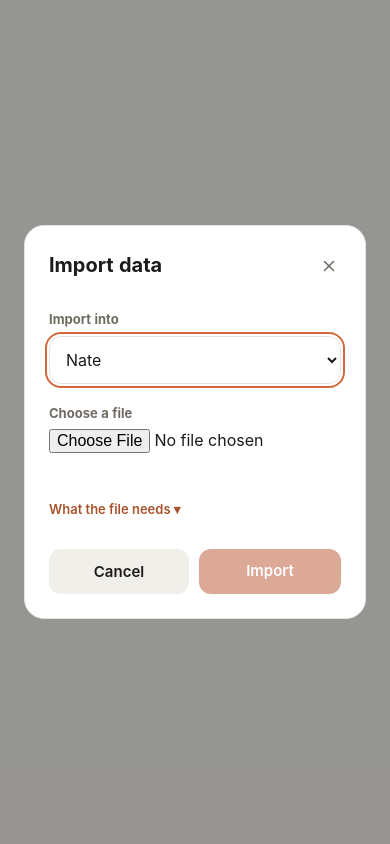
Test: ImportDataModal › states which columns are required before any file is chosen
Click the button "What the file needs ▾".
click(115, 509)  # box [49,489,180,529]
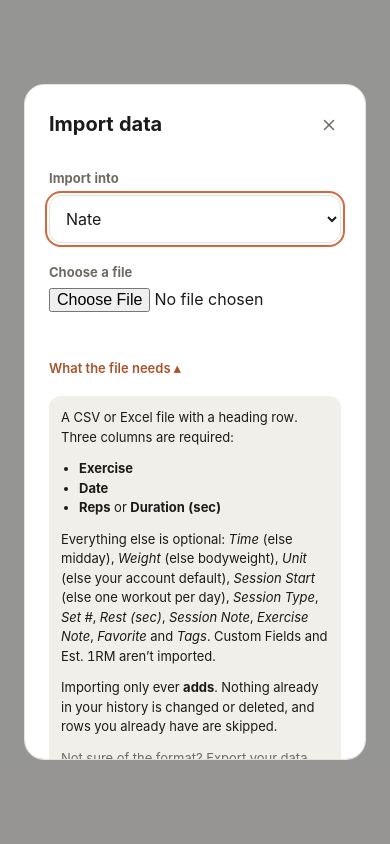
expect the text "Exercise" is shown: met, box [79,460,133,476]
expect the text "Date" is shown: met, box [79,480,108,496]
expect the text "Reps" is shown: met, box [79,499,111,515]
